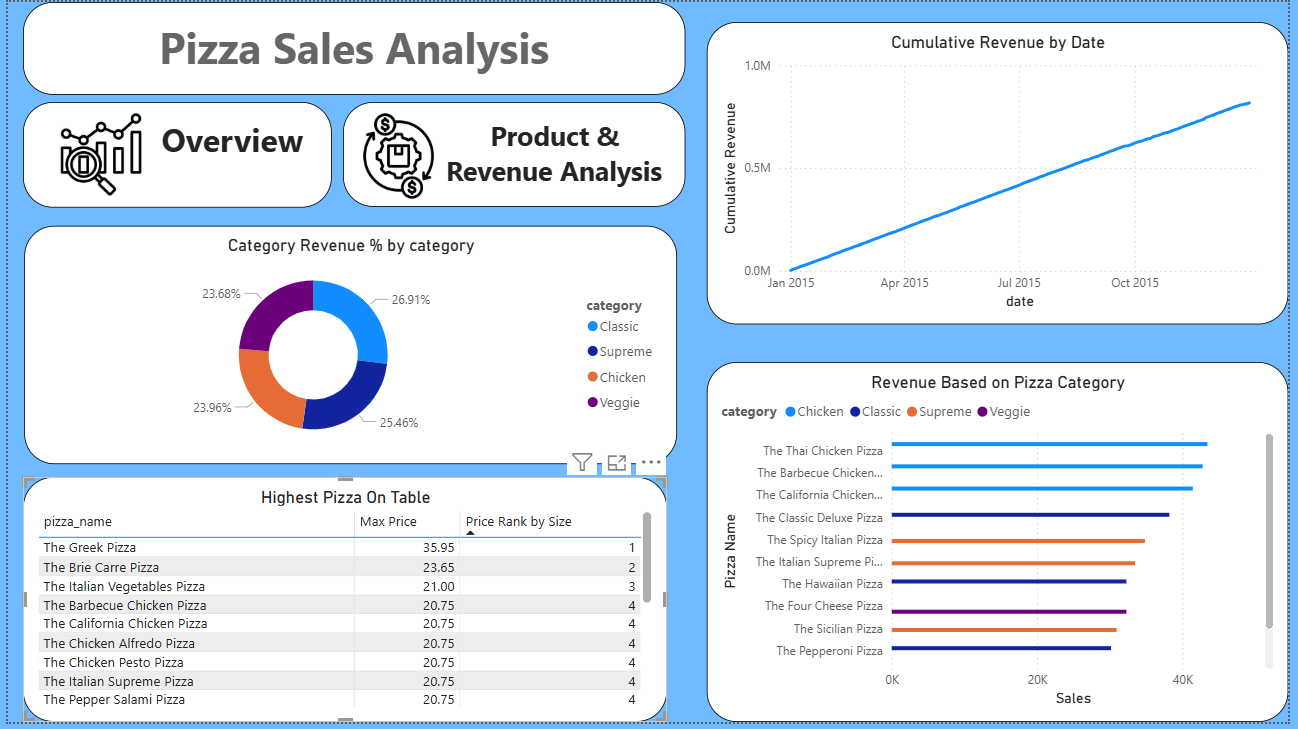

This screenshot's page, from the dashboard's own definition file:
{"tool":"powerbi","page":{"name":"Product & Revenue Analysis","canvas":[1280,720],"ordinal":1},"visuals":[{"type":"textbox","box":[15,0,662.5,92.5],"z":0},{"type":"textbox","box":[335,100,342.5,105],"z":1000},{"type":"textbox","box":[15.1,100.2,308.7,105.7],"z":2000},{"type":"donutChart","fields":{"Y":["pizza_sales vw_category_revenue_percentage.Category Revenue %"],"Category":["pizza_sales vw_sales_base.category"]},"box":[16.2,223.8,652.5,238.8],"z":3000},{"type":"clusteredBarChart","title":"Revenue Based on Pizza Category","fields":{"Category":["pizza_sales vw_top3_pizzas_per_category.name"],"Y":["Sum(pizza_sales vw_top3_pizzas_per_category.revenue)"],"Series":["pizza_sales vw_top3_pizzas_per_category.category"]},"box":[698.8,360,581.2,360],"z":4000},{"type":"lineChart","title":"Cumulative Revenue by Date","fields":{"Category":["pizza_sales vw_cumulative_revenue.date"],"Y":["Max(pizza_sales vw_cumulative_revenue.cum_revenue)"]},"box":[698.8,20,581.2,302.5],"z":5000},{"type":"image","box":[334.8,109.8,111.1,87.8],"z":6000},{"type":"image","box":[16.5,109.8,153.7,85.1],"z":7000},{"type":"actionButton","box":[15.9,100.3,306.9,105.2],"z":8000},{"type":"actionButton","box":[335.1,100.3,342.4,105.2],"z":9000},{"type":"tableEx","title":"Highest Pizza On Table","fields":{"Values":["pizza_sales vw_sales_base.pizza_name","pizza_sales vw_sales_base.Max Price","pizza_sales vw_sales_base.Price Rank by Size"]},"box":[15,475,643.8,245],"z":10000}]}

Visuals, with their boxes in screenshot pixels (x1, y1, x2, y2), scaled from the page's 1280x720 canvas onto the 1298x729 screenshot:
textbox: <region>15, 0, 687, 94</region>
textbox: <region>340, 101, 687, 208</region>
textbox: <region>15, 101, 328, 208</region>
donutChart - pizza_sales vw_category_revenue_percentage.Category Revenue % x pizza_sales vw_sales_base.category: <region>16, 227, 678, 468</region>
"Revenue Based on Pizza Category" clusteredBarChart: <region>709, 364, 1297, 728</region>
"Cumulative Revenue by Date" lineChart: <region>709, 20, 1297, 327</region>
image: <region>340, 111, 452, 200</region>
image: <region>17, 111, 173, 197</region>
actionButton: <region>16, 102, 327, 208</region>
actionButton: <region>340, 102, 687, 208</region>
"Highest Pizza On Table" tableEx: <region>15, 481, 668, 728</region>
